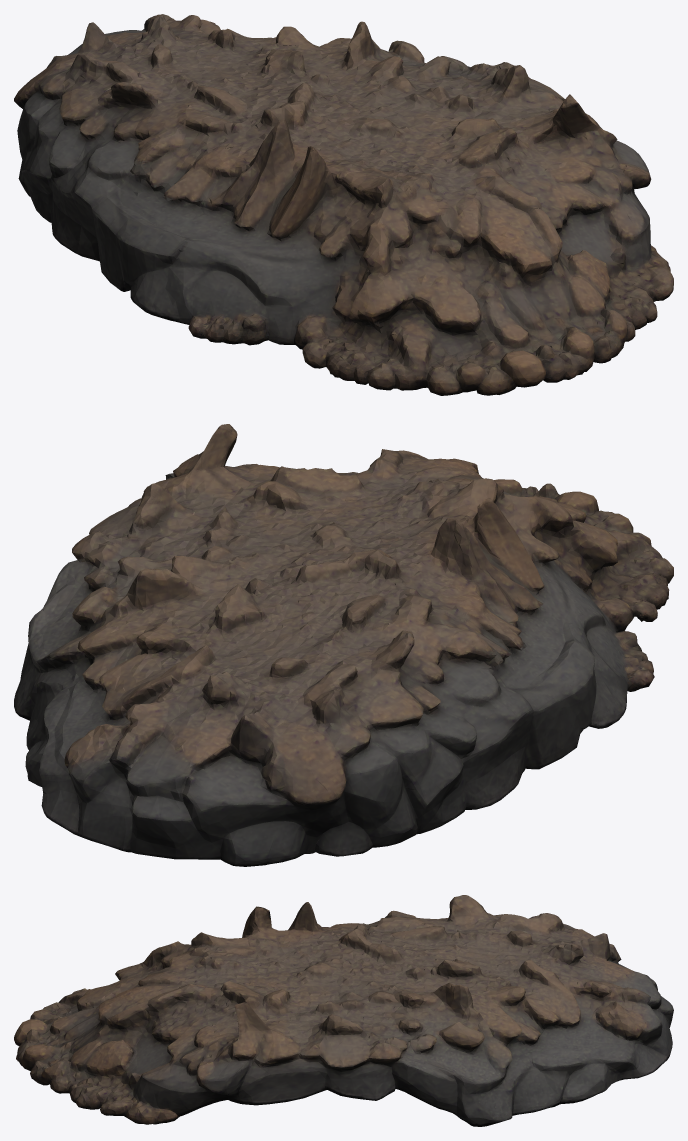
3 views of the same model, one above another, from view 1: azimuth 30°, elevation 25°; view 2: azimuth 150°, elevation 25°; view 3: azimuth 270°, elevation 25° (orthographic). The views are drawn at different scales.
Parts seen in each view (by area): view 1: world; view 2: world; view 3: world.
Boxes of the visible parts, x1,y1,x2,y2 form: world: (14,14,673,395); world: (14,424,673,866); world: (14,895,673,1126).
Size of the model in its own units: 0.7543 by 0.249 by 1.2.
Materials: 1 (1 with a texture image).
